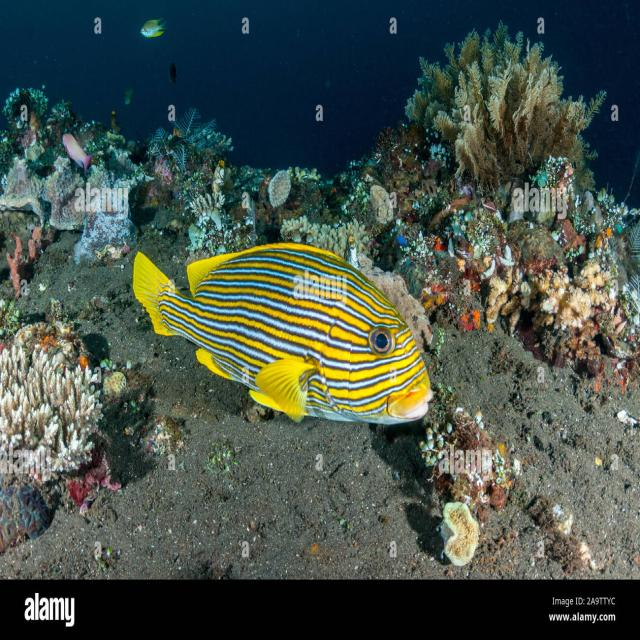RibbonedSweetlips: (132, 240, 434, 426)
